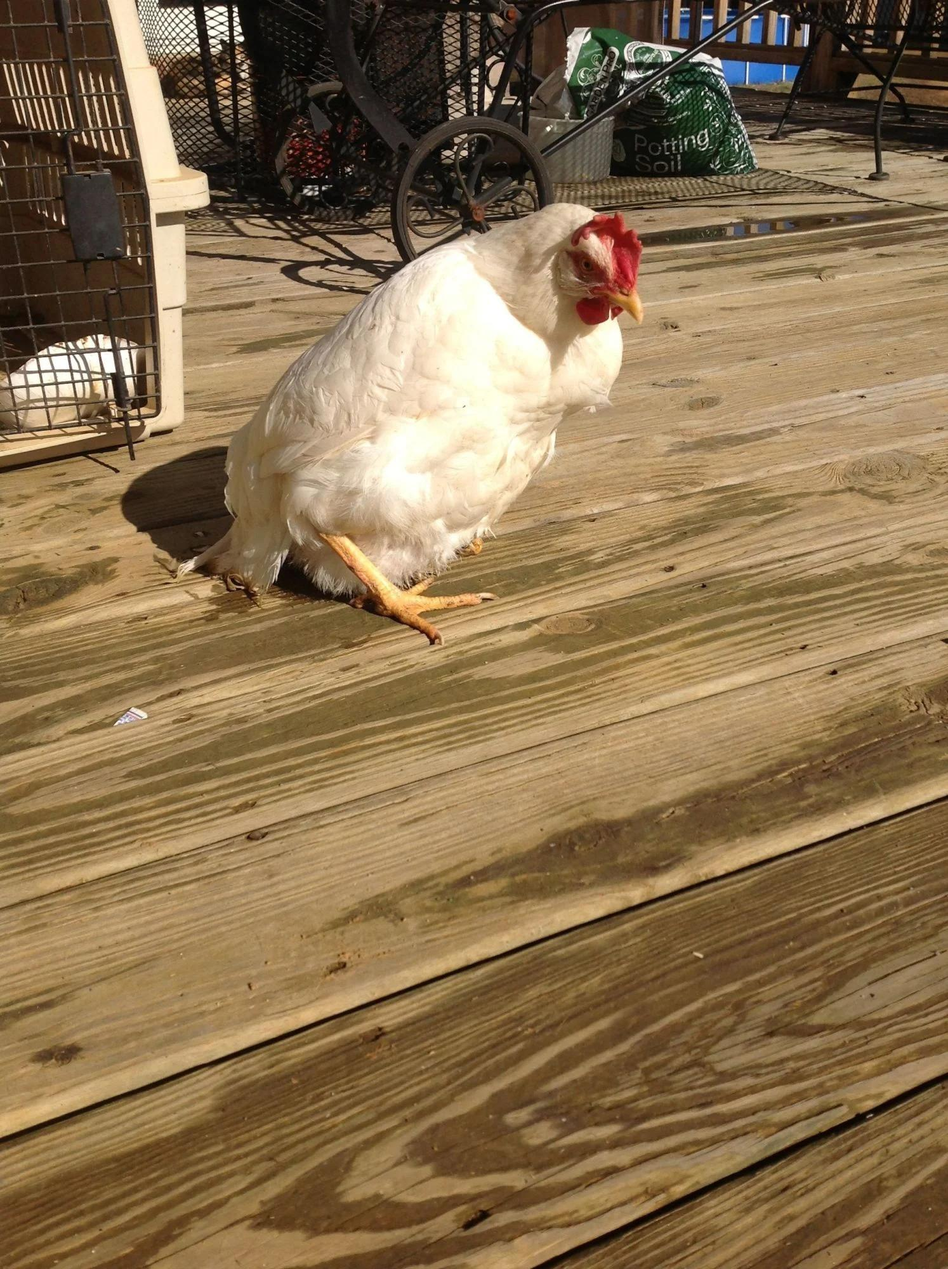AbNormal: (232, 203, 666, 657)
